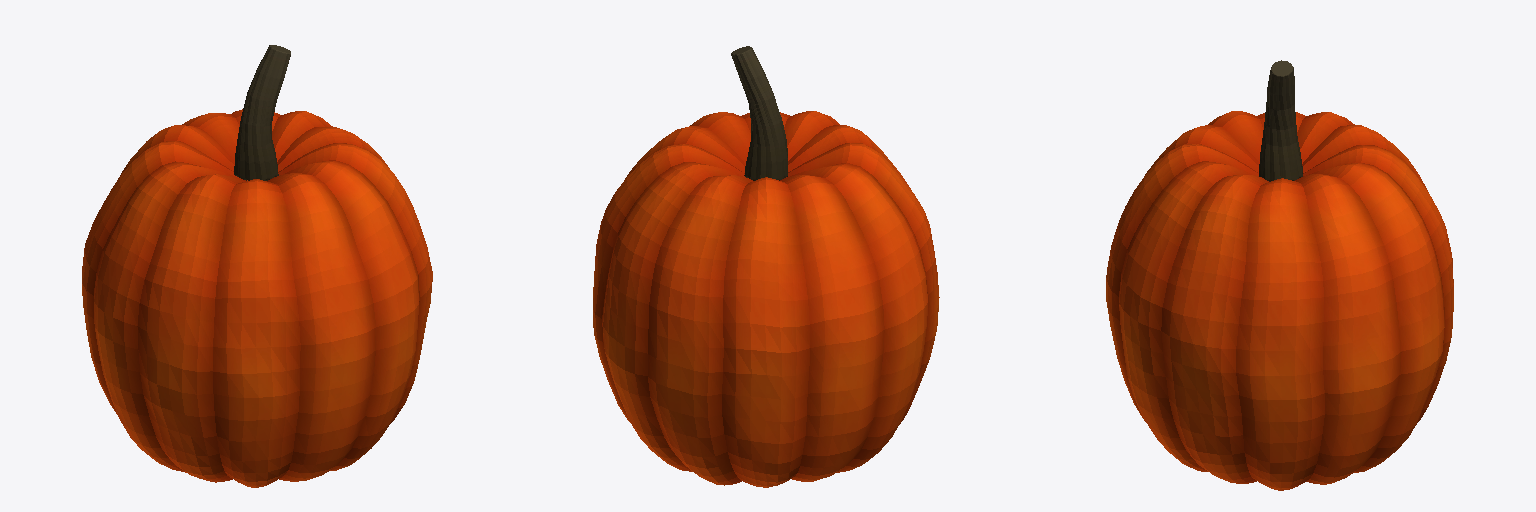
3 renders of one model, left to right at view 1: azimuth 30°, elevation 25°; view 2: azimuth 150°, elevation 25°; view 3: azimuth 270°, elevation 25°, orthographic.
Visible parts, largest first — view 1: pumpkin_small_002; view 2: pumpkin_small_002; view 3: pumpkin_small_002.
Boxes of the visible parts, box(x1,y1,x2,y2) form: pumpkin_small_002: box(82, 45, 432, 487); pumpkin_small_002: box(593, 46, 939, 487); pumpkin_small_002: box(1106, 60, 1453, 490).
Bounding box in the file's own units: 3.46 × 4.48 × 3.46.
1 materials, 1 textured.